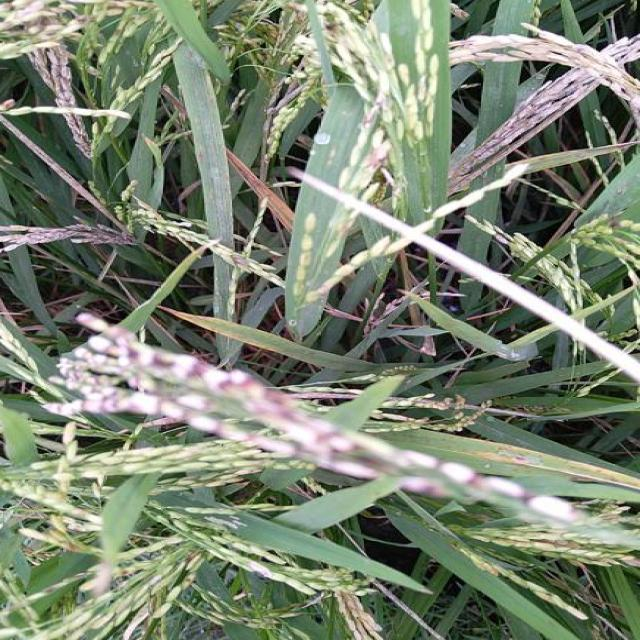Panicle Blight: (41, 313, 577, 523), (48, 530, 98, 555), (204, 468, 263, 488), (95, 0, 131, 18), (366, 148, 388, 177), (361, 99, 383, 128), (338, 212, 358, 240), (311, 280, 338, 297), (280, 0, 305, 16), (75, 10, 91, 30), (40, 585, 66, 596), (181, 572, 197, 589), (60, 0, 103, 4), (633, 328, 640, 341), (3, 99, 13, 108), (120, 571, 129, 577)
